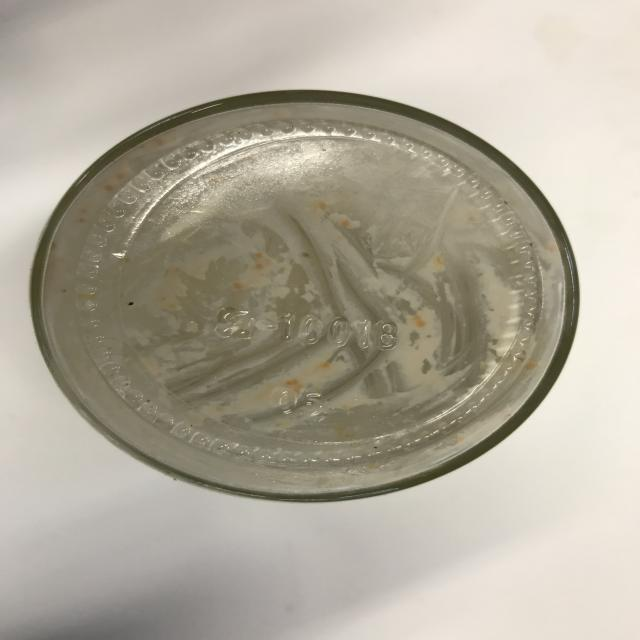glass: (24, 89, 582, 504)
